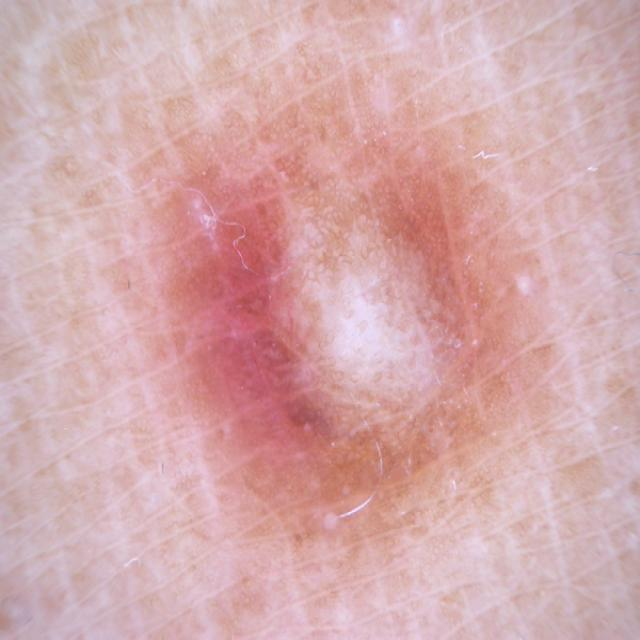Skin-Cancer Dermatofibroma: (102, 37, 610, 635)
